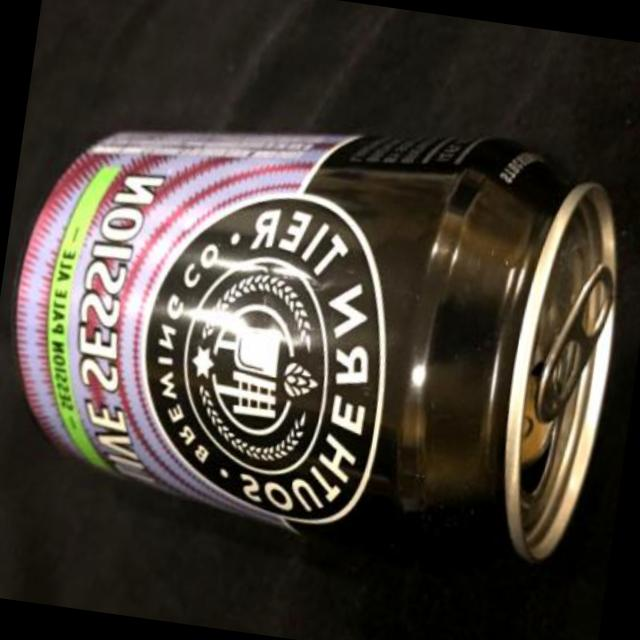metal: (19, 135, 618, 563)
